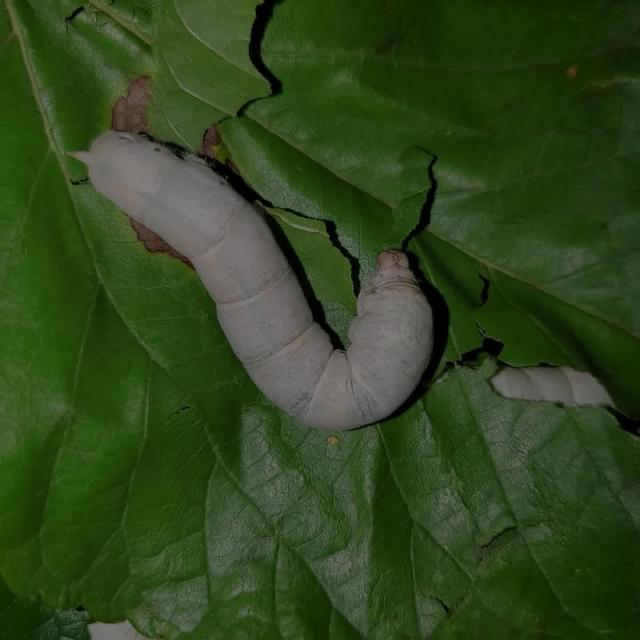Healthy: (61, 119, 443, 439)
